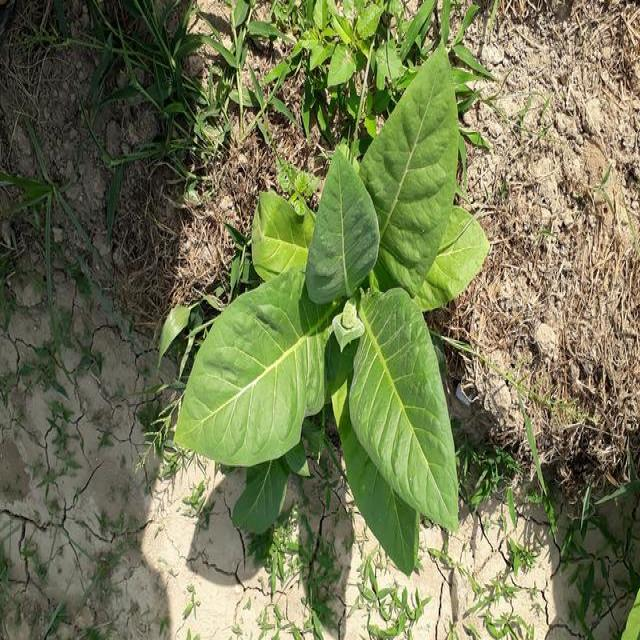crop: (176, 42, 492, 566)
